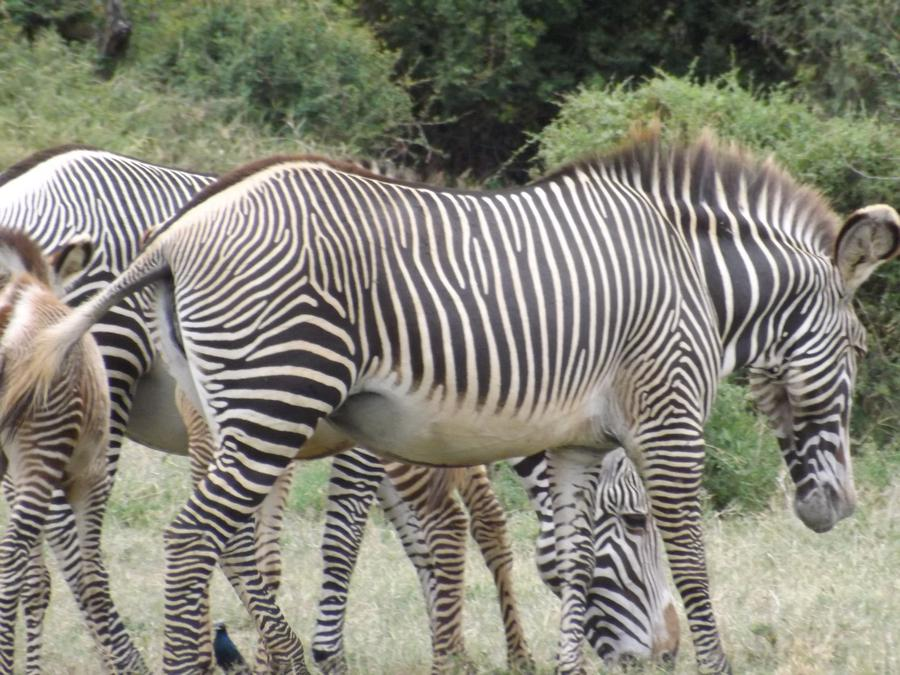zebra_grevys: (168, 171, 711, 431)
